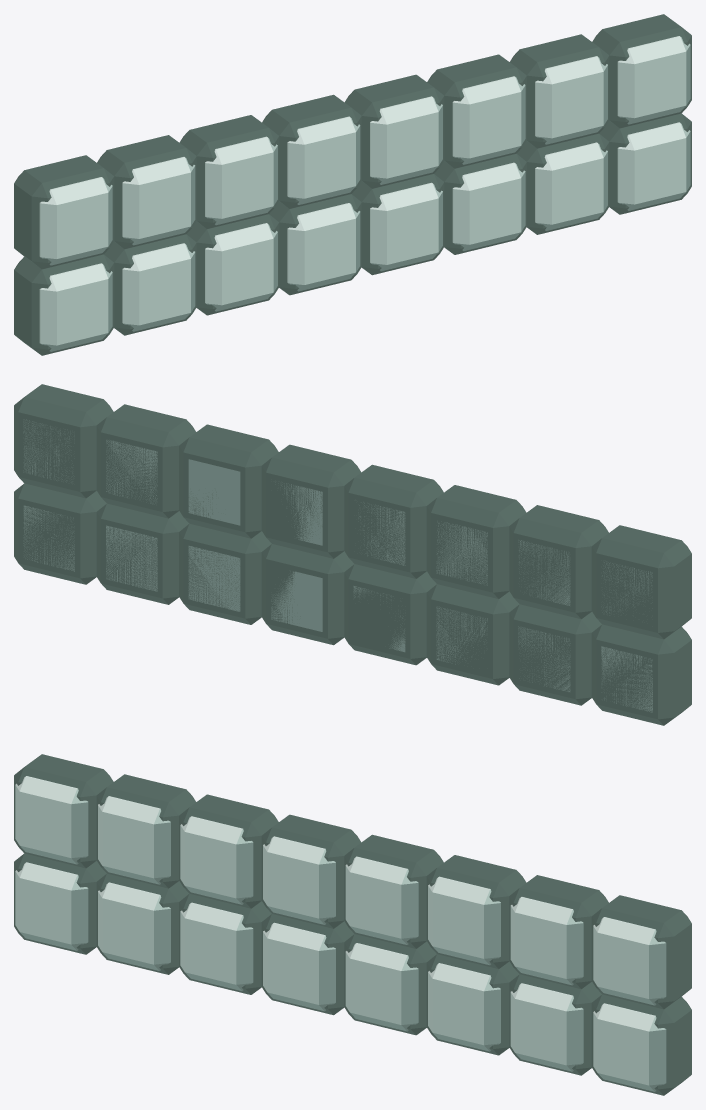
Rendered from Terrain_Block8x2.gltf.
3 views of the same model, one above another, from view 1: azimuth 30°, elevation 25°; view 2: azimuth 150°, elevation 25°; view 3: azimuth 330°, elevation 25° (orthographic).
Parts seen in each view (by area): view 1: Terrain_Block8x2_baked; view 2: Terrain_Block8x2_baked; view 3: Terrain_Block8x2_baked.
Boxes of the visible parts, x1=… form: Terrain_Block8x2_baked: x1=14, y1=14, x2=691, y2=355; Terrain_Block8x2_baked: x1=14, y1=384, x2=691, y2=725; Terrain_Block8x2_baked: x1=14, y1=754, x2=691, y2=1095.
Bounding box in the file's own units: 8 × 2 × 0.7.
